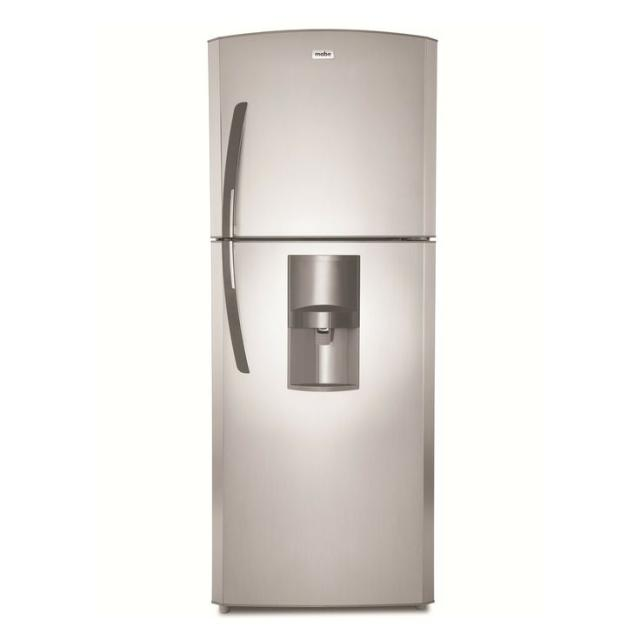obstacle: (207, 28, 437, 612)
